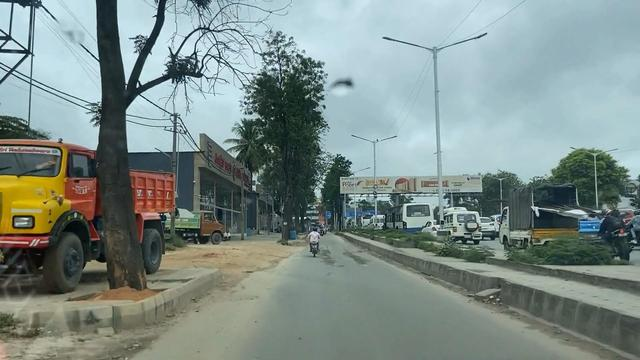HMV: (4, 138, 168, 279)
